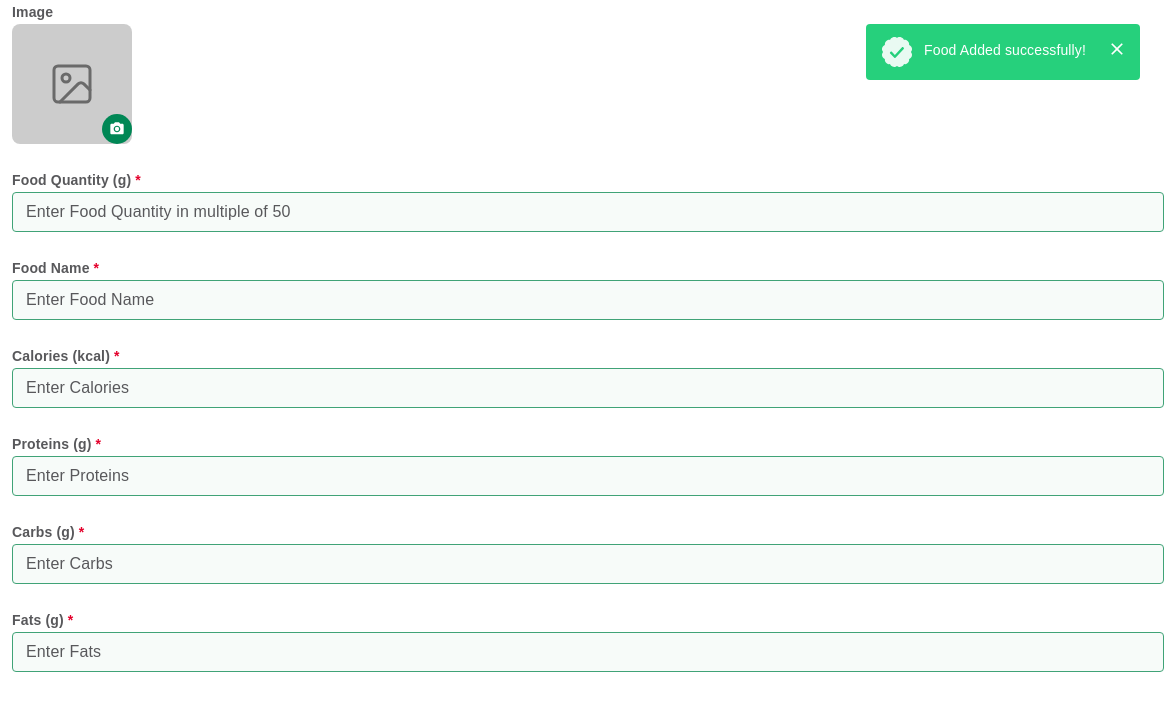
Test: AddFoodForm › closes snackbar when reason is not 'clickaway'
The image size is (1176, 720).
Expected: the text "Food Added successfully!" is shown, [924, 38, 1086, 62]
# Simulate user clicking the close button (if using IconButton inside CustomSnackbar)
Click the button named "close". click: (1117, 49)
box: [1102, 34, 1132, 64]
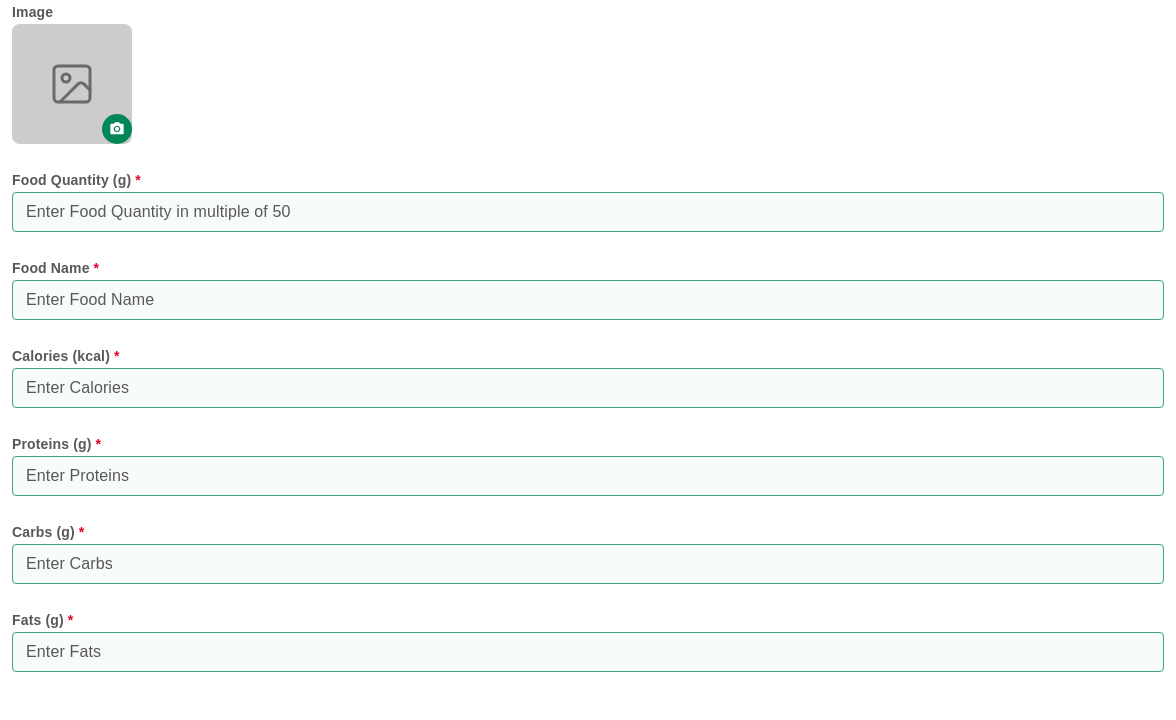
Expected: the text "Food Added successfully!" is gone
